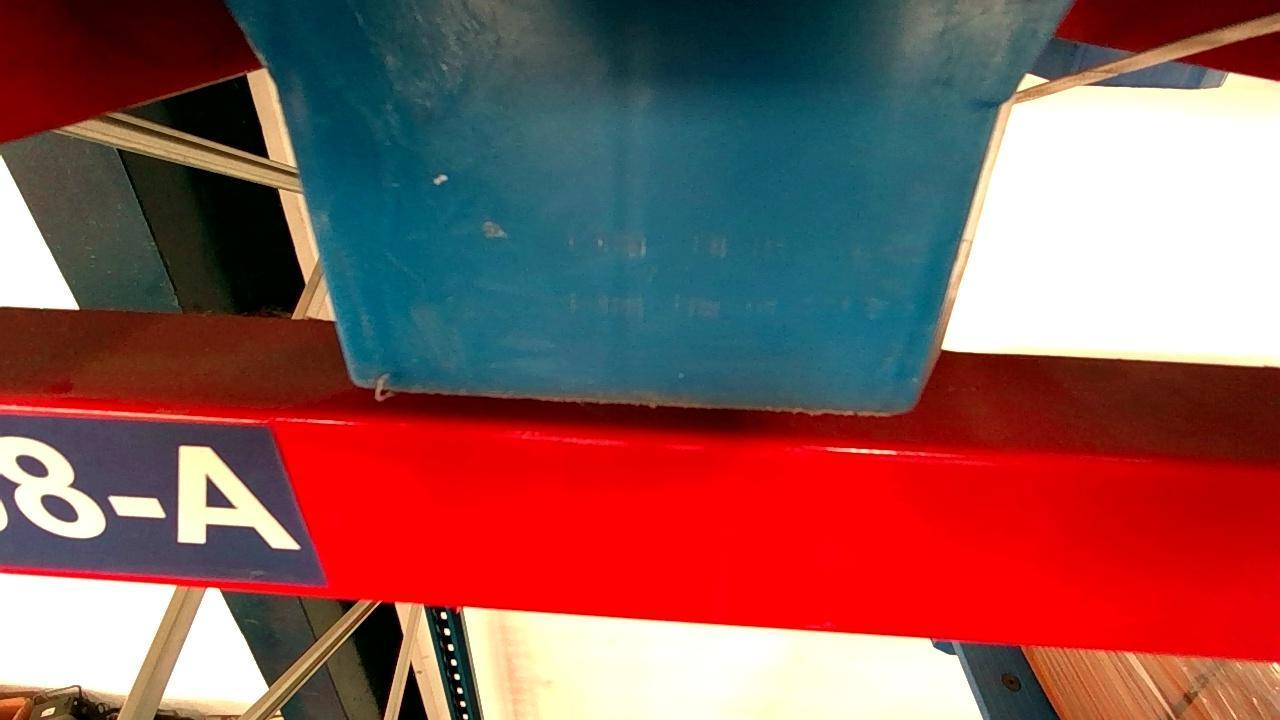h_rack: (0, 407, 1280, 663)
